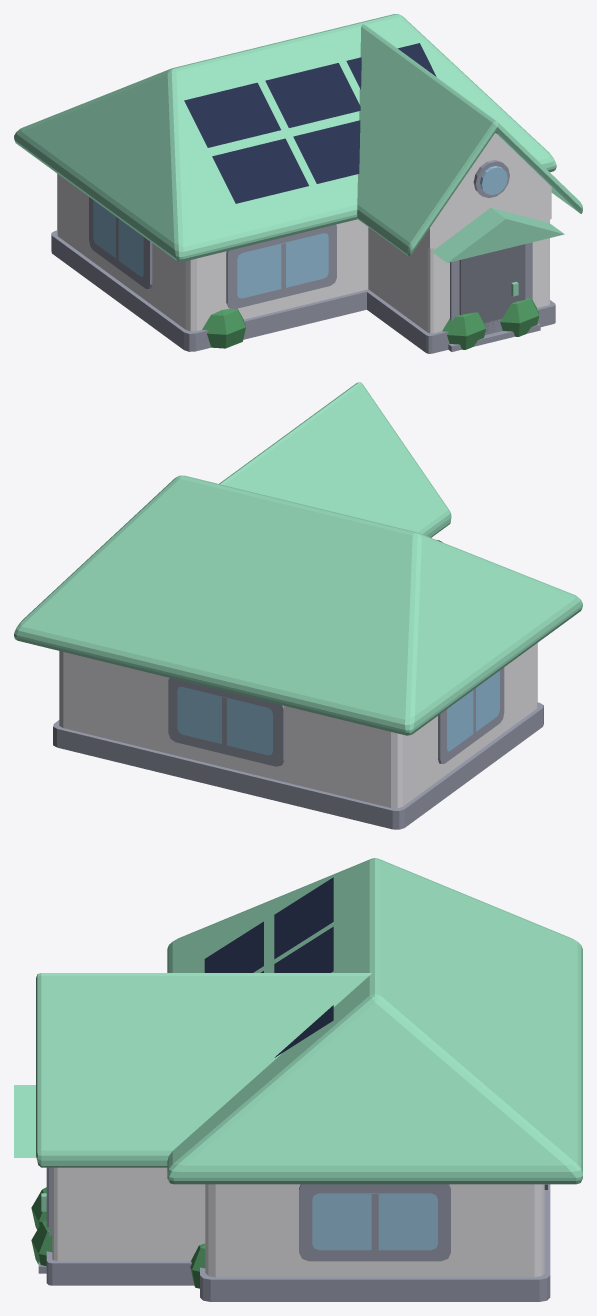
The model's file is house-1x1-1f-mansard-a-solar.glb.
The picture shows the model from 3 angles, top to bottom: view 1: azimuth 30°, elevation 25°; view 2: azimuth 150°, elevation 25°; view 3: azimuth 270°, elevation 25°; orthographic projection. The views are drawn at different scales.
Visible parts, largest first — view 1: house-1x1-1f-mansard-a-solar; view 2: house-1x1-1f-mansard-a-solar; view 3: house-1x1-1f-mansard-a-solar.
Boxes of the visible parts, x1=… form: house-1x1-1f-mansard-a-solar: x1=14, y1=14, x2=582, y2=353; house-1x1-1f-mansard-a-solar: x1=14, y1=382, x2=582, y2=829; house-1x1-1f-mansard-a-solar: x1=14, y1=858, x2=582, y2=1301.
Bounding box in the file's own units: 1 × 0.552 × 1.04.
1 material, 1 textured.
